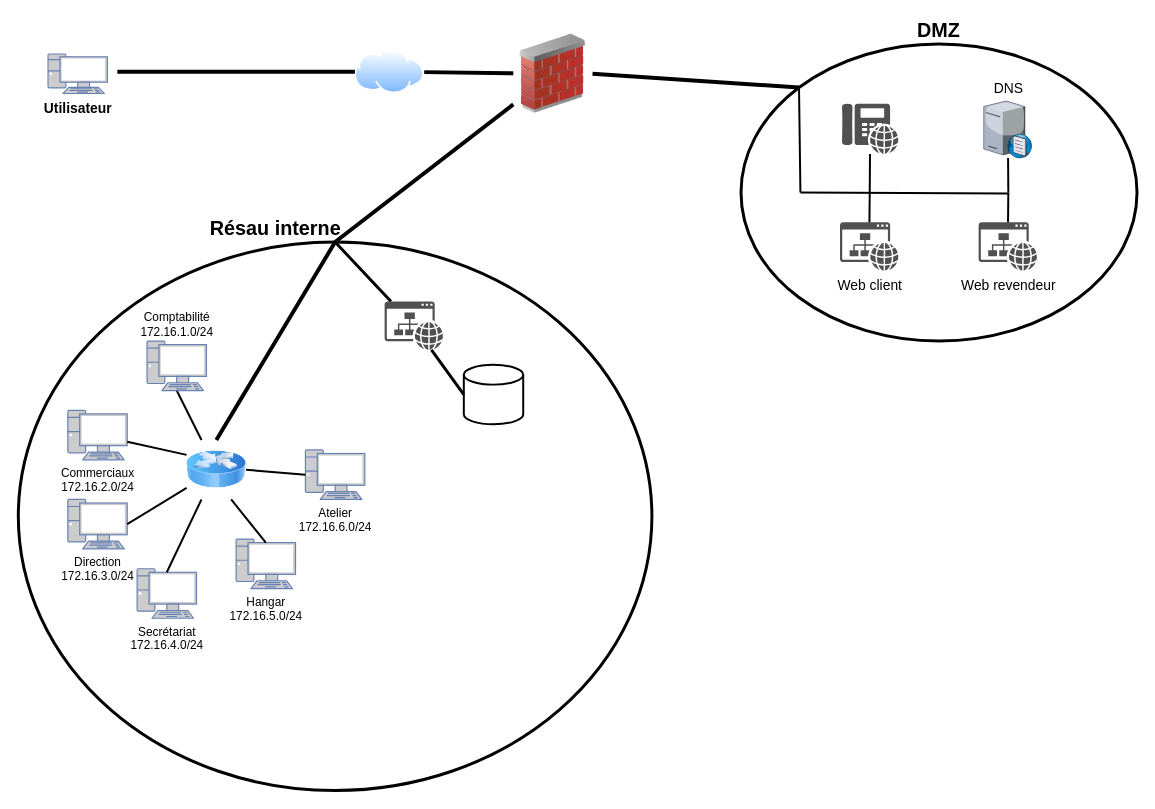
The diagram is 1155 pixels wide and 809 high, and some of its shapes have lost their labels. Here are the shapes that lost their labels. From the top down, the box of each, then its label:
(354, 49, 424, 93): INTERET
(513, 34, 592, 113): Pare-feu
(842, 103, 898, 153): VoIP
(384, 301, 443, 349): ERP 172.16.0.0/32
(462, 363, 524, 425): MySQL
